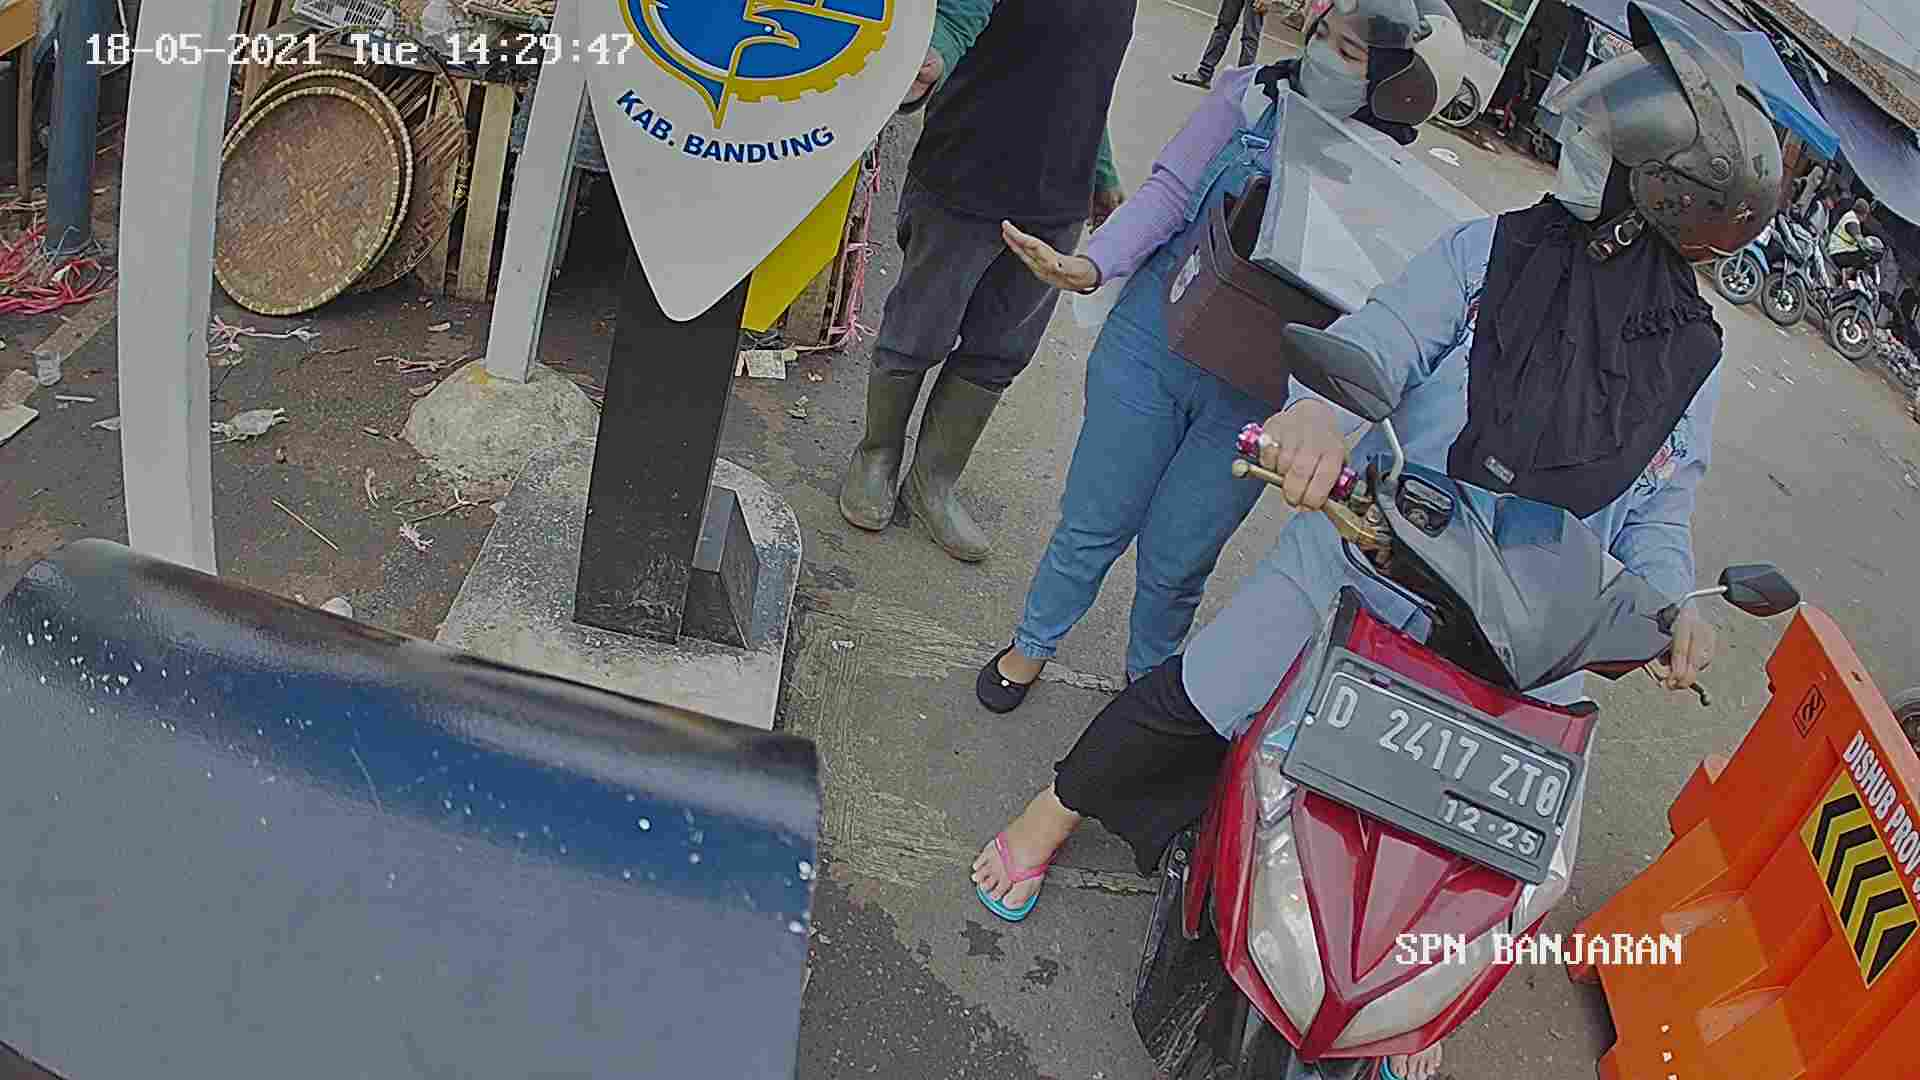motor: (1168, 433, 1695, 1080)
